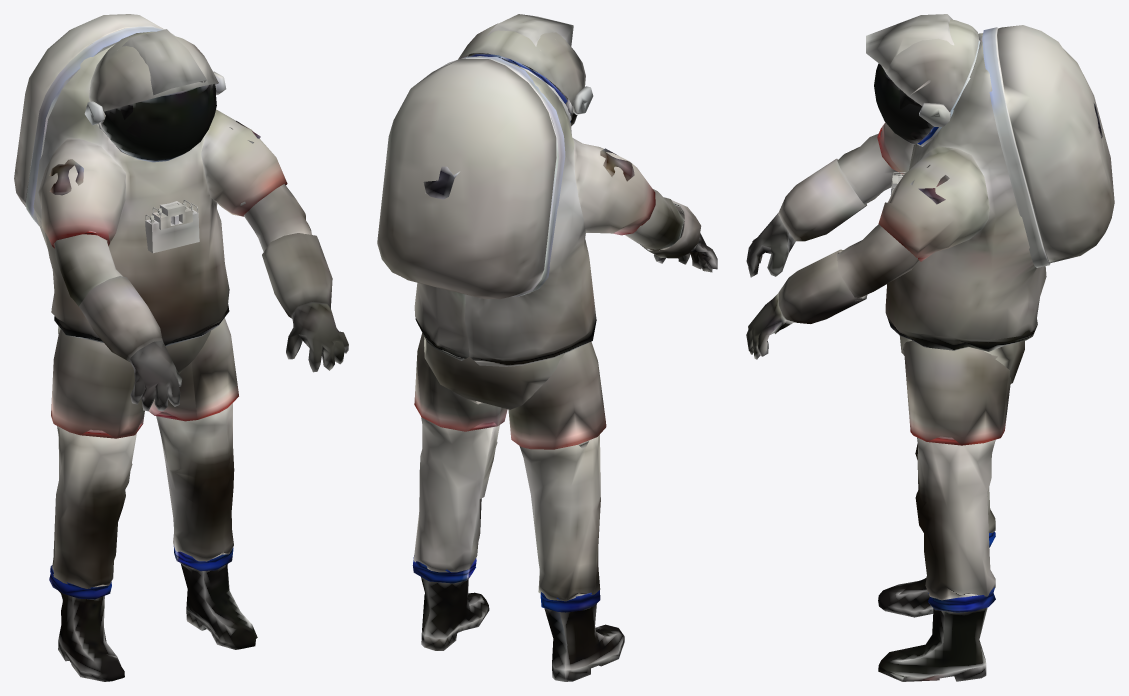
File: space-z2-suit.glb
The picture shows the model from 3 angles, left to right: view 1: azimuth 30°, elevation 25°; view 2: azimuth 150°, elevation 25°; view 3: azimuth 270°, elevation 25°; orthographic projection.
Visible parts, largest first — view 1: Z2; view 2: Z2; view 3: Z2.
Part boxes in pixels (x1,y1,x2,y2): Z2: [14, 14, 348, 681]; Z2: [377, 14, 717, 681]; Z2: [746, 14, 1114, 681].
Size of the model in its own units: 0.7944 by 1.93 by 1.04.
1 material, 1 textured.
